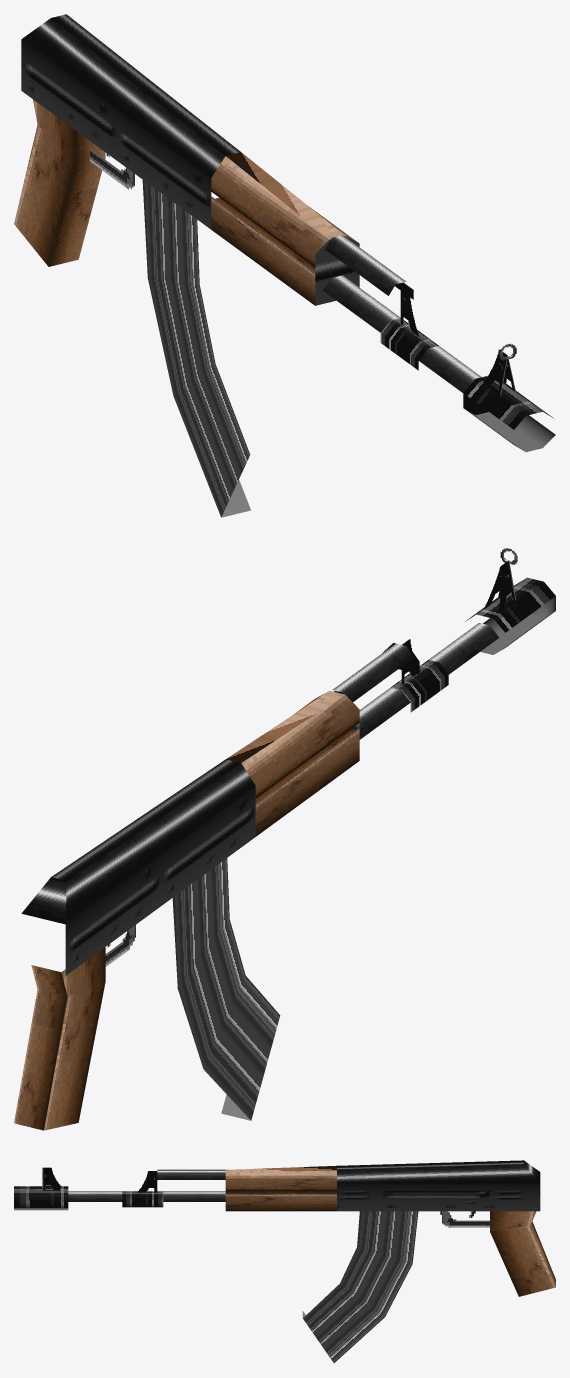
File: gun.glb
3 views of the same model, one above another, from view 1: azimuth 30°, elevation 25°; view 2: azimuth 150°, elevation 25°; view 3: azimuth 270°, elevation 25° (orthographic). The views are drawn at different scales.
Visible parts, largest first — view 1: m9, m10, m13, m15, m18, m11, m12CullBoth, m17CullBothClampSClampT, m8CullBothClampSClampT; view 2: m9, m13, m10, m15, m18, m11, m17CullBothClampSClampT; view 3: m10, m9, m13, m14, m18, m17CullBothClampSClampT, m8CullBothClampSClampT.
Boxes of the visible parts, left/top/right/bottom form: m9: left=14, top=99, right=358, bottom=305; m10: left=142, top=180, right=250, bottom=517; m13: left=21, top=14, right=481, bottom=392; m15: left=21, top=39, right=211, bottom=229; m18: left=380, top=318, right=553, bottom=429; m11: left=221, top=282, right=555, bottom=517; m12CullBoth: left=315, top=236, right=359, bottom=305; m17CullBothClampSClampT: left=400, top=283, right=515, bottom=395; m8CullBothClampSClampT: left=90, top=148, right=134, bottom=189; m9: left=14, top=691, right=359, bottom=1130; m13: left=21, top=623, right=499, bottom=924; m10: left=172, top=858, right=280, bottom=1120; m15: left=65, top=786, right=255, bottom=975; m18: left=391, top=577, right=555, bottom=712; m11: left=221, top=596, right=555, bottom=1120; m17CullBothClampSClampT: left=401, top=560, right=515, bottom=684; m10: left=303, top=1211, right=418, bottom=1362; m9: left=225, top=1165, right=555, bottom=1296; m13: left=68, top=1160, right=540, bottom=1201; m14: left=337, top=1183, right=540, bottom=1211; m18: left=14, top=1186, right=163, bottom=1208; m17CullBothClampSClampT: left=42, top=1167, right=157, bottom=1192; m8CullBothClampSClampT: left=440, top=1211, right=489, bottom=1227.
Bounding box in the file's own units: 37 × 294 × 730.
11 materials, 11 textured.
